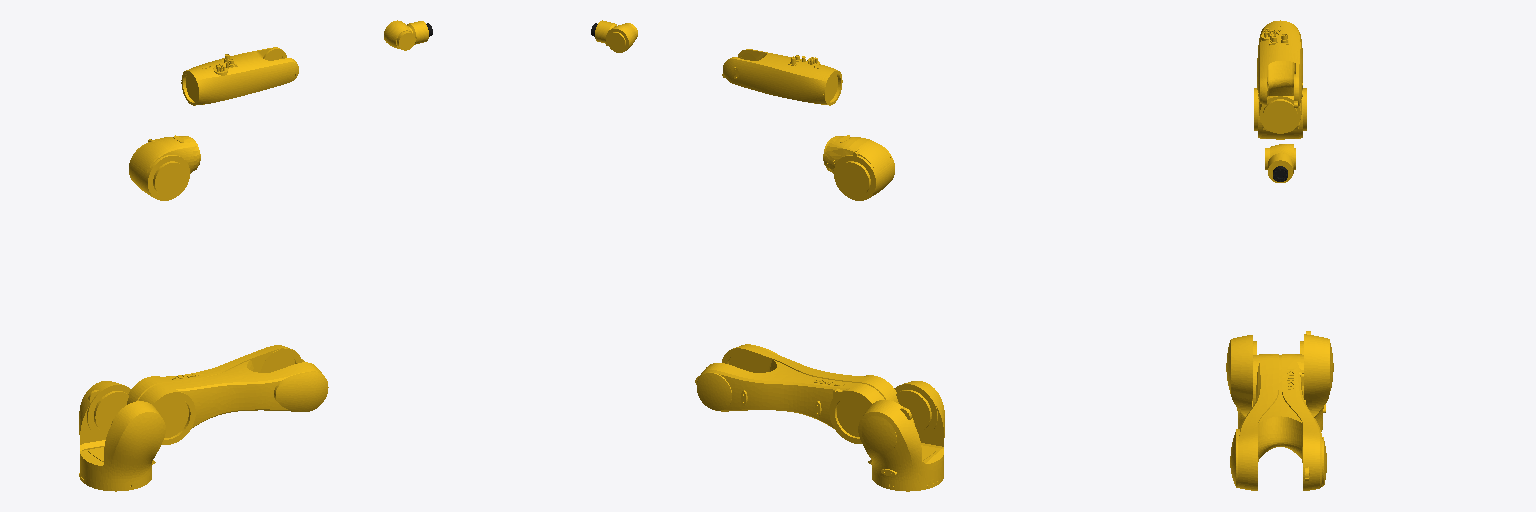
URDF robot description (fanuc_m20ia):
<?xml version="1.0"?>
<!-- FANUC M-20iA 官方模型：STL 和关节参数来自 ros-industrial/fanuc (fanuc_m20ia_support) -->
<!-- Z-up 米制，加载时需要 convertToYUp -->
<robot name="fanuc_m20ia">

  <material name="fanuc_yellow"><color rgba="0.96 0.76 0.13 1.0"/></material>
  <material name="fanuc_gray28"><color rgba="0.278 0.278 0.278 1.0"/></material>
  <material name="fanuc_black"><color rgba="0.15 0.15 0.15 1.0"/></material>

  <link name="base_link">
    <visual>
      <origin xyz="0 0 0" rpy="0 0 0"/>
      <geometry><mesh filename="package://fanuc_support/meshes/base_link.stl"/></geometry>
      <material name="fanuc_gray28"/>
    </visual>
  </link>

  <link name="link_1">
    <visual>
      <origin xyz="0 0 0" rpy="0 0 0"/>
      <geometry><mesh filename="package://fanuc_support/meshes/link_1.stl"/></geometry>
      <material name="fanuc_yellow"/>
    </visual>
  </link>

  <link name="link_2">
    <visual>
      <origin xyz="0 0 0" rpy="0 0 0"/>
      <geometry><mesh filename="package://fanuc_support/meshes/link_2.stl"/></geometry>
      <material name="fanuc_yellow"/>
    </visual>
  </link>

  <link name="link_3">
    <visual>
      <origin xyz="0 0 0" rpy="0 0 0"/>
      <geometry><mesh filename="package://fanuc_support/meshes/link_3.stl"/></geometry>
      <material name="fanuc_yellow"/>
    </visual>
  </link>

  <link name="link_4">
    <visual>
      <origin xyz="0 0 0" rpy="0 0 0"/>
      <geometry><mesh filename="package://fanuc_support/meshes/link_4.stl"/></geometry>
      <material name="fanuc_yellow"/>
    </visual>
  </link>

  <link name="link_5">
    <visual>
      <origin xyz="0 0 0" rpy="0 0 0"/>
      <geometry><mesh filename="package://fanuc_support/meshes/link_5.stl"/></geometry>
      <material name="fanuc_yellow"/>
    </visual>
  </link>

  <link name="link_6">
    <visual>
      <origin xyz="0 0 0" rpy="0 0 0"/>
      <geometry><mesh filename="package://fanuc_support/meshes/link_6.stl"/></geometry>
      <material name="fanuc_black"/>
    </visual>
  </link>

  <joint name="joint_1" type="revolute">
    <origin xyz="0 0 0.525" rpy="0 0 0"/>
    <parent link="base_link"/>
    <child link="link_1"/>
    <axis xyz="0 0 1"/>
    <limit lower="-2.967060" upper="2.967060" effort="100" velocity="3.403392"/>
  </joint>

  <joint name="joint_2" type="revolute">
    <origin xyz="0.150 0 0" rpy="0 0 0"/>
    <parent link="link_1"/>
    <child link="link_2"/>
    <axis xyz="0 1 0"/>
    <limit lower="-1.745329" upper="2.792527" effort="100" velocity="3.054326"/>
  </joint>

  <joint name="joint_3" type="revolute">
    <origin xyz="0 0 0.790" rpy="0 0 0"/>
    <parent link="link_2"/>
    <child link="link_3"/>
    <axis xyz="0 -1 0"/>
    <limit lower="-3.228859" upper="4.766843" effort="100" velocity="3.141593"/>
  </joint>

  <joint name="joint_4" type="revolute">
    <origin xyz="0 0 0.250" rpy="0 0 0"/>
    <parent link="link_3"/>
    <child link="link_4"/>
    <axis xyz="-1 0 0"/>
    <limit lower="-3.490658" upper="3.490658" effort="50" velocity="6.283185"/>
  </joint>

  <joint name="joint_5" type="revolute">
    <origin xyz="0.835 0 0" rpy="0 0 0"/>
    <parent link="link_4"/>
    <child link="link_5"/>
    <axis xyz="0 -1 0"/>
    <limit lower="-2.443461" upper="2.443461" effort="50" velocity="6.283185"/>
  </joint>

  <joint name="joint_6" type="revolute">
    <origin xyz="0.100 0 0" rpy="0 0 0"/>
    <parent link="link_5"/>
    <child link="link_6"/>
    <axis xyz="-1 0 0"/>
    <limit lower="-4.712389" upper="4.712389" effort="30" velocity="9.599311"/>
  </joint>

</robot>

--- Facts derived from the render (not from the file) ---
3 views of the same robot in one strip: view 1: azimuth 30°, elevation 25°; view 2: azimuth 150°, elevation 25°; view 3: azimuth 270°, elevation 25° (orthographic).
Model fanuc_m20ia with 7 links and 6 joints (6 revolute), rooted at base_link, posed all joints at 0.
Links seen in each view (by area): view 1: link_2, link_1, link_4, link_3, link_5; view 2: link_2, link_1, link_4, link_3, link_5; view 3: link_2, link_1, link_4, link_3, link_5.
Boxes of the visible links, left/top/right/bottom form: link_2: left=127, top=345, right=328, bottom=444; link_1: left=79, top=381, right=165, bottom=491; link_4: left=181, top=47, right=298, bottom=105; link_3: left=129, top=135, right=200, bottom=200; link_5: left=384, top=20, right=428, bottom=50; link_2: left=695, top=344, right=898, bottom=443; link_1: left=858, top=381, right=944, bottom=491; link_4: left=722, top=49, right=842, bottom=105; link_3: left=823, top=135, right=894, bottom=200; link_5: left=595, top=20, right=637, bottom=52; link_2: left=1230, top=354, right=1326, bottom=490; link_1: left=1226, top=331, right=1333, bottom=431; link_4: left=1257, top=20, right=1302, bottom=107; link_3: left=1254, top=88, right=1306, bottom=139; link_5: left=1265, top=144, right=1295, bottom=182.
Bounding box of the posed robot: 1.19 × 0.276 × 1.3 m (x, y, z).
6 mesh visuals loaded from 7 distinct referenced files (6 binary STL); not drawn: 1 (reference not matched to a file when rendering).
